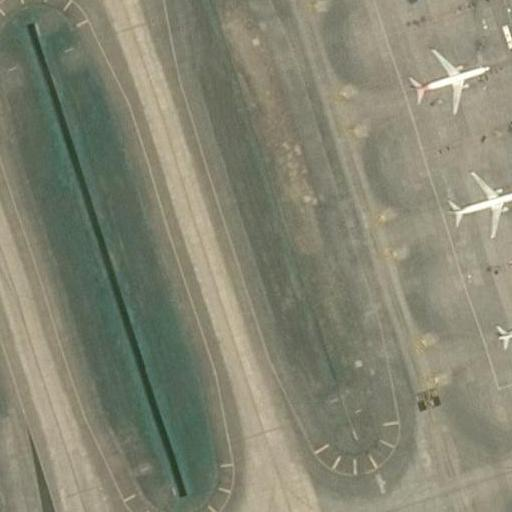Aircraft: (400, 47, 490, 119), (443, 169, 512, 242), (490, 297, 512, 361)
